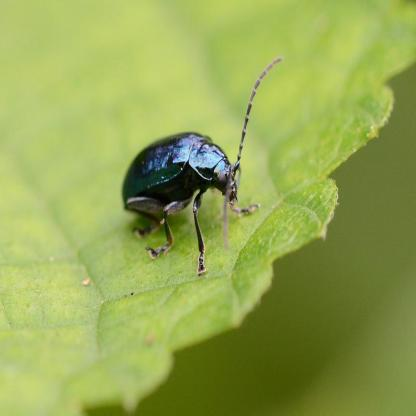beetle: (123, 100, 257, 281)
